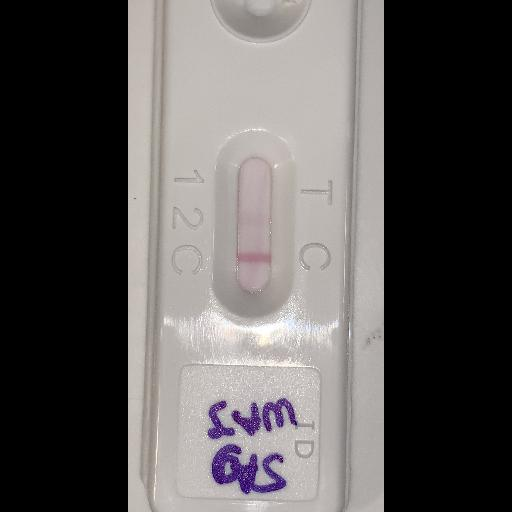Pos: (156, 0, 349, 511)
